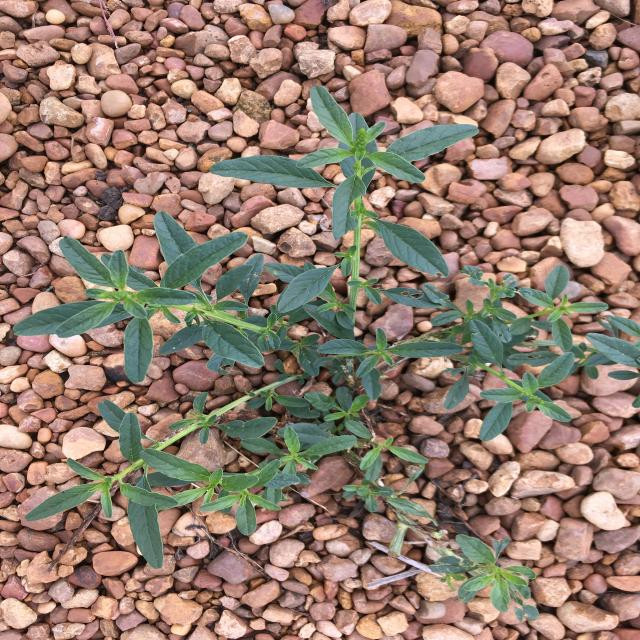Waterhemp: (12, 85, 640, 624)
